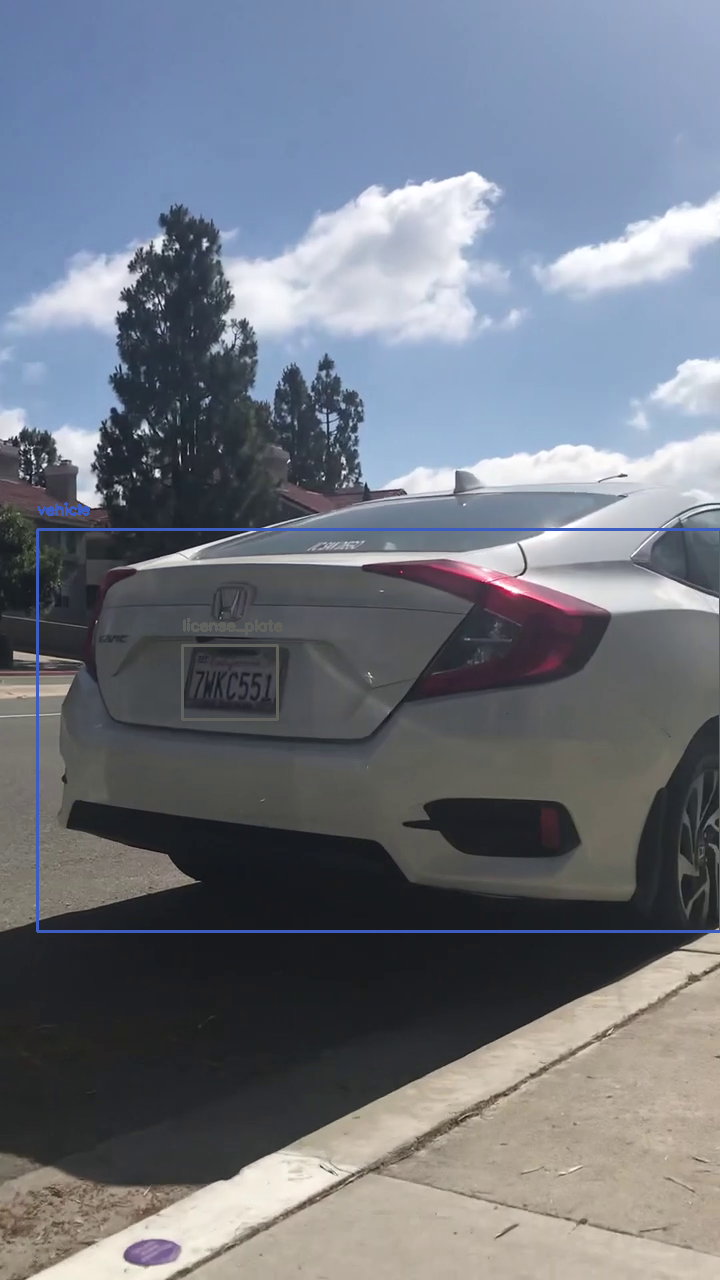license_plate: (182, 645, 277, 719)
vehicle: (37, 529, 720, 931)
